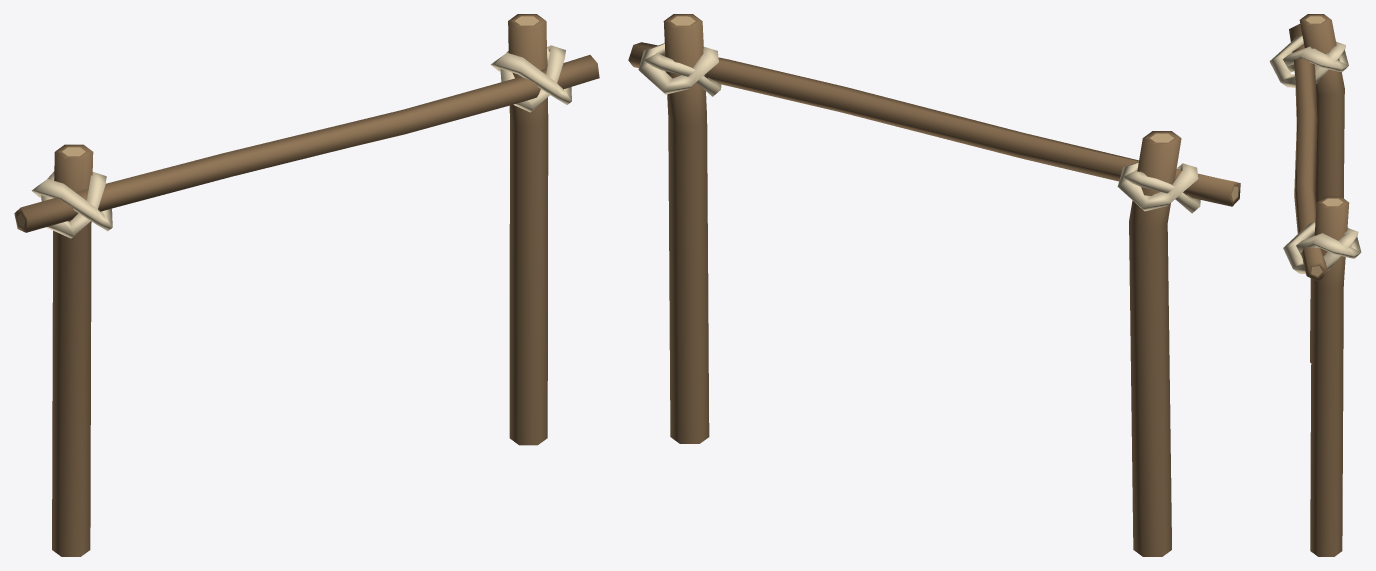
The model's file is rpgpp_ag_hanger_wood_01a.fbx.
The picture shows the model from 3 angles, left to right: view 1: azimuth 30°, elevation 25°; view 2: azimuth 150°, elevation 25°; view 3: azimuth 270°, elevation 25°; orthographic projection. The views are drawn at different scales.
Parts seen in each view (by area): view 1: rpgpp_ag_hanger_wood_01a; view 2: rpgpp_ag_hanger_wood_01a; view 3: rpgpp_ag_hanger_wood_01a.
Boxes of the visible parts, box(x1,y1,x2,y2) form: rpgpp_ag_hanger_wood_01a: box(14, 14, 599, 556); rpgpp_ag_hanger_wood_01a: box(628, 14, 1240, 556); rpgpp_ag_hanger_wood_01a: box(1269, 14, 1361, 556).
Bounding box in the file's own units: 3.3 × 2.23 × 0.5323.
